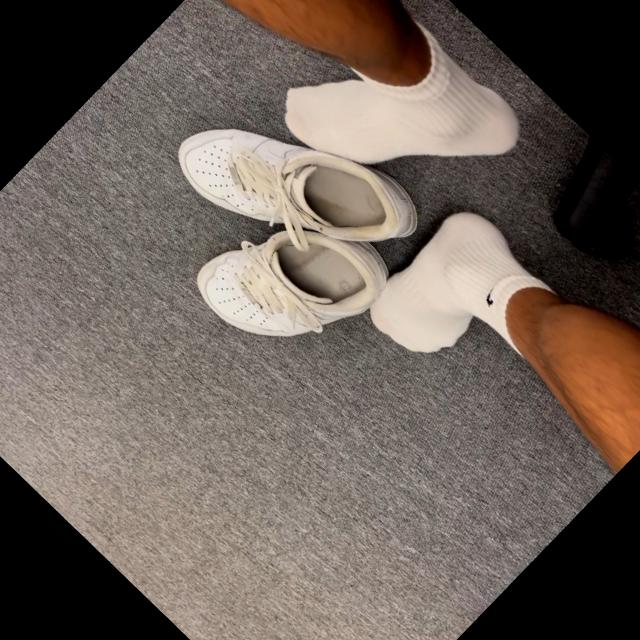nike_original_airforce: (160, 47, 436, 320), (178, 156, 412, 390)
